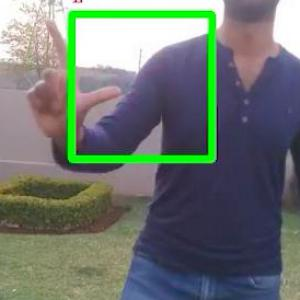land_hand: (20, 15, 125, 137)
